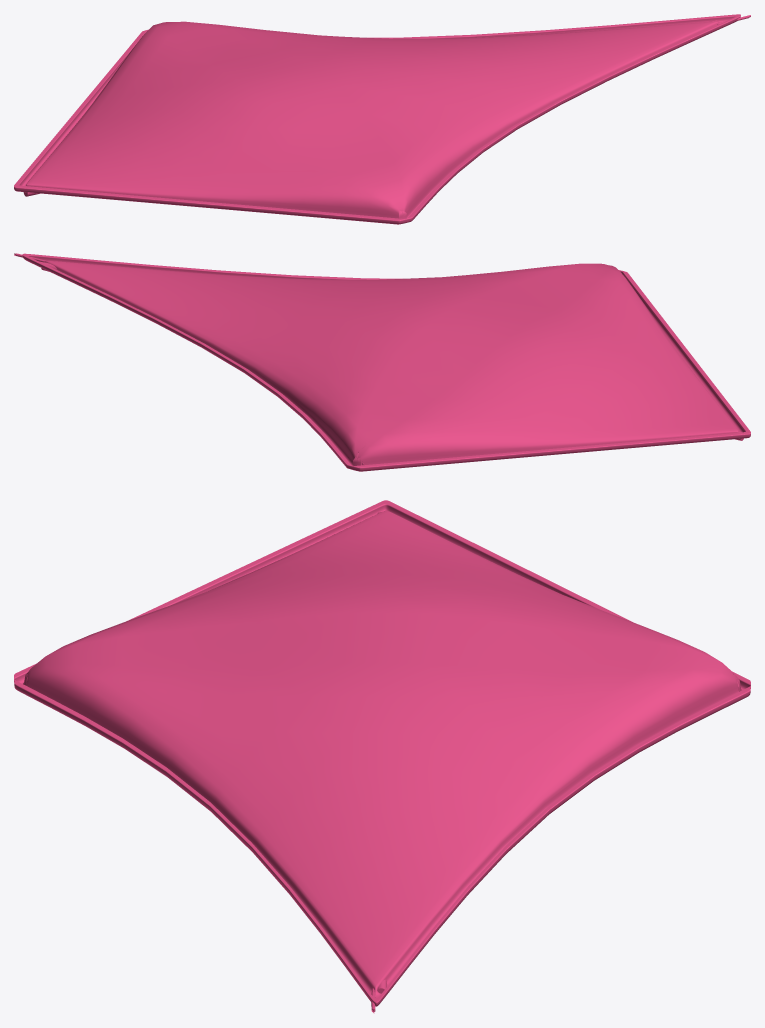
Rendered from brise-d-amour_cerfvolant-sans-queue (1).fbx.
3 renders of one model, top to bottom at view 1: azimuth 30°, elevation 25°; view 2: azimuth 150°, elevation 25°; view 3: azimuth 270°, elevation 25°, orthographic. The views are drawn at different scales.
Visible parts, largest first — view 1: Cube.002; view 2: Cube.002; view 3: Cube.002.
Part boxes in pixels (x1,y1,x2,y2): Cube.002: (14,14,750,224); Cube.002: (14,253,750,471); Cube.002: (14,500,750,1013).
Size of the model in its own units: 315 by 21.74 by 194.
